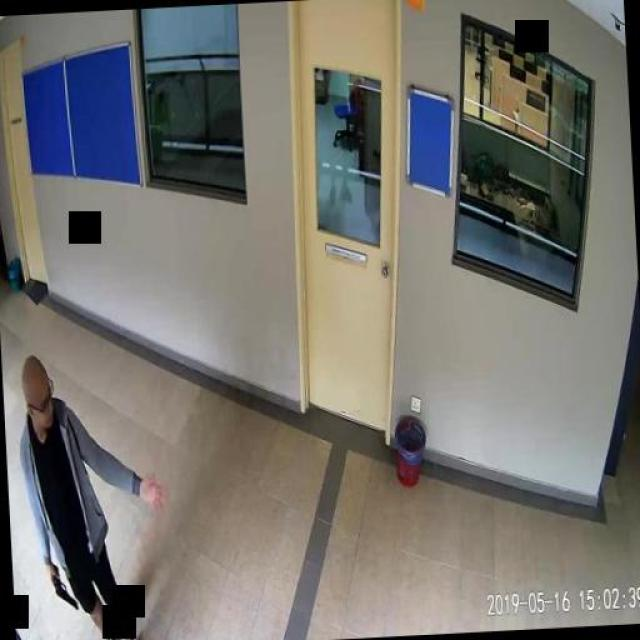gun: (49, 561, 76, 609)
